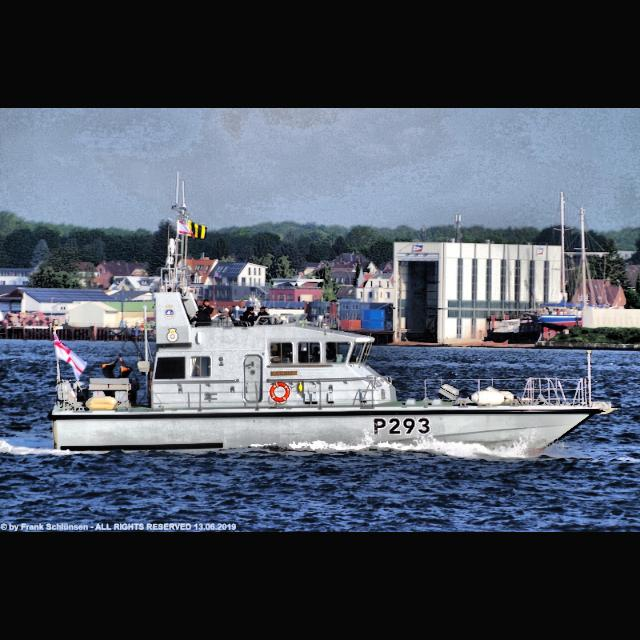patrol_vessel: (48, 164, 616, 460)
